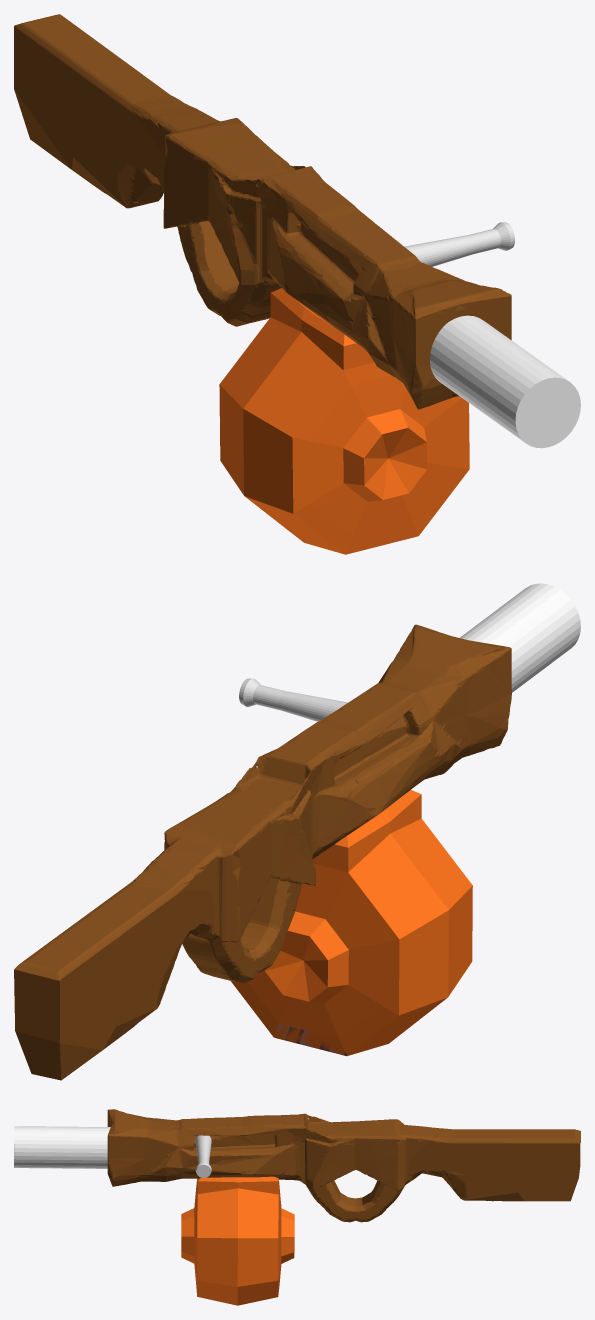
File: Spud Gun 1.fbx
3 views of the same model, one above another, from view 1: azimuth 30°, elevation 25°; view 2: azimuth 150°, elevation 25°; view 3: azimuth 270°, elevation 25° (orthographic). The views are drawn at different scales.
Visible parts, largest first — view 1: Cube, Torus.001, Cylinder, Cylinder.001; view 2: Cube, Torus.001, Cylinder, Cylinder.001; view 3: Cube, Torus.001, Cylinder, Cylinder.001.
Part boxes in pixels (x1,y1,x2,y2): Cube: (14, 14, 511, 409); Torus.001: (219, 288, 469, 554); Cylinder: (430, 315, 580, 448); Cylinder.001: (404, 222, 514, 266); Cube: (14, 624, 511, 1080); Torus.001: (231, 790, 472, 1056); Cylinder: (460, 583, 580, 692); Cylinder.001: (239, 678, 347, 721); Cube: (107, 1109, 580, 1222); Torus.001: (181, 1176, 294, 1305); Cylinder: (14, 1126, 110, 1168); Cylinder.001: (195, 1135, 211, 1177).
Size of the model in its own units: 302 by 391 by 1143.
